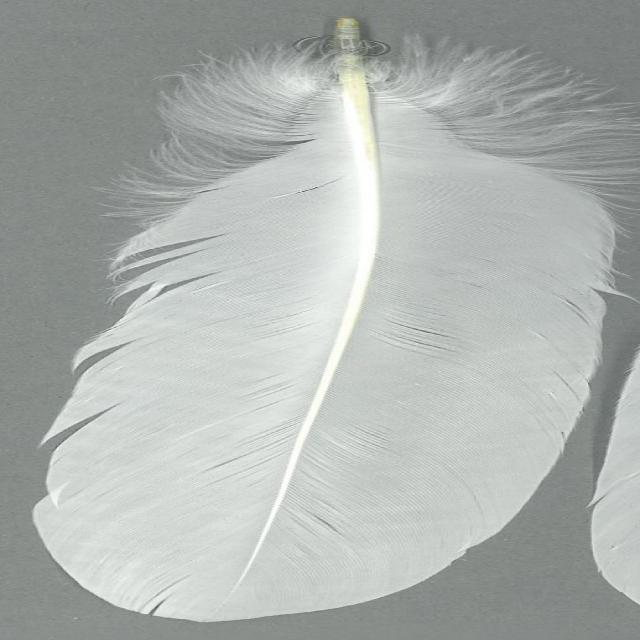feather: (25, 21, 640, 624)
